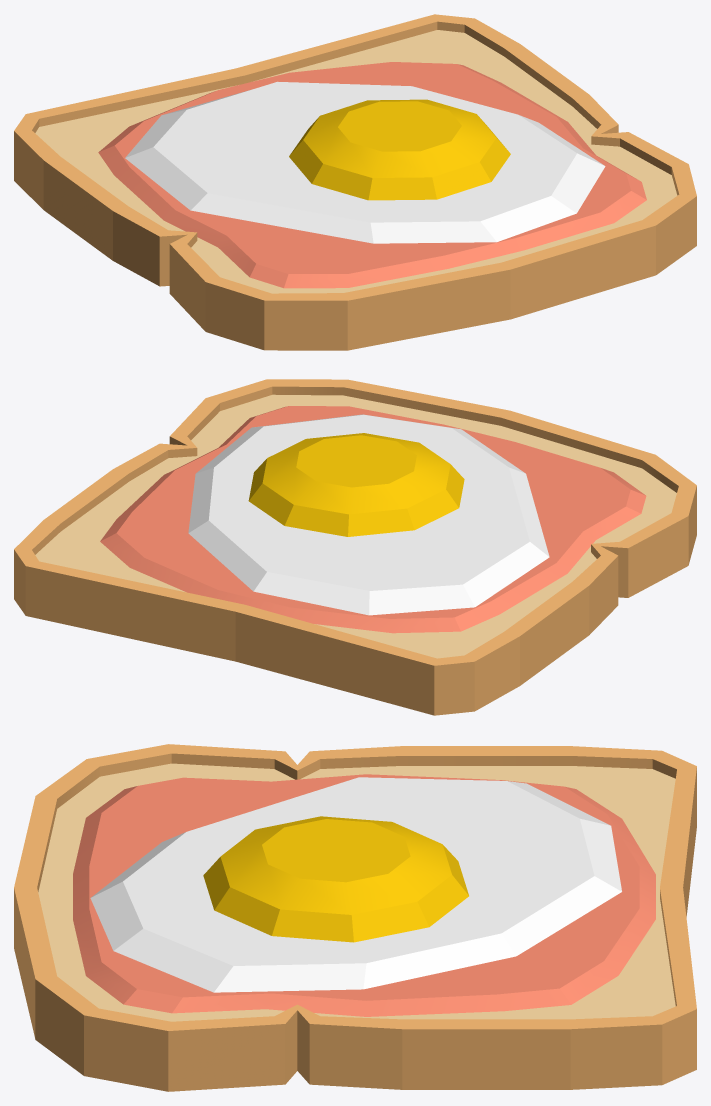
File: PW_frenchtoast_egg.fbx
The picture shows the model from 3 angles, top to bottom: view 1: azimuth 30°, elevation 25°; view 2: azimuth 150°, elevation 25°; view 3: azimuth 270°, elevation 25°; orthographic projection. The views are drawn at different scales.
Visible parts, largest first — view 1: bread1, egg, cream; view 2: bread1, egg, cream; view 3: bread1, egg, cream.
Boxes of the visible parts, box(x1,y1,x2,y2) form: bread1: box(14, 14, 696, 350); egg: box(125, 81, 605, 243); cream: box(98, 62, 646, 288); bread1: box(14, 379, 696, 715); egg: box(188, 414, 549, 615); cream: box(100, 406, 646, 633); bread1: box(14, 744, 696, 1091); egg: box(90, 777, 621, 992); cream: box(73, 774, 655, 1016).
Size of the model in its own units: 34.12 by 6.13 by 34.32.
1 material, 1 textured.
